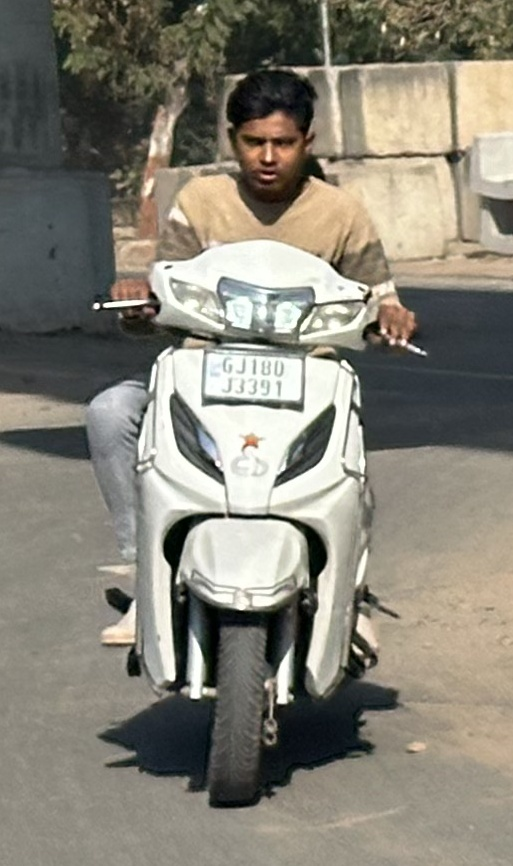NoHelmet: (93, 66, 430, 809), (213, 63, 328, 199)
